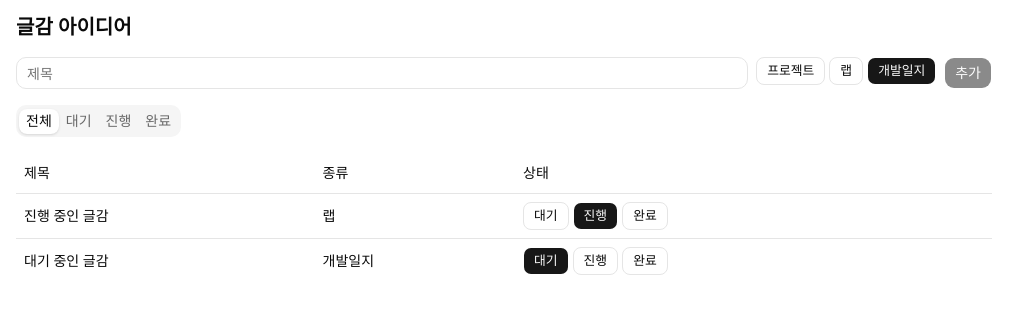
Scenario: IdeasPage 상태 변경 › 예외 › 404이면 '이미 삭제된 글감입니다'가 보이고 목록이 다시 조회돼야 한다
expect the text "대기 중인 글감" is shown: met, box [16,238,315,282]
Click the button "진행" in the row of "대기 중인 글감" at point(595, 260), box [573,246,618,274]
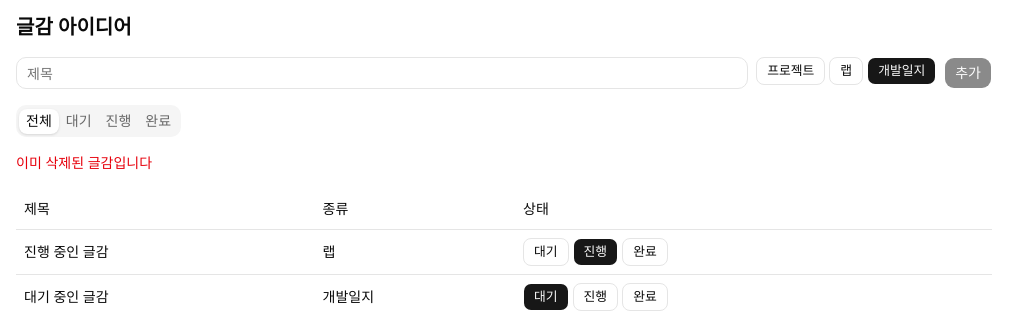
expect the message reads "이미 삭제된 글감입니다": met, box [16,153,152,172]
